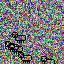sheep: (11, 31, 27, 43), (18, 52, 33, 63), (40, 56, 56, 64)
